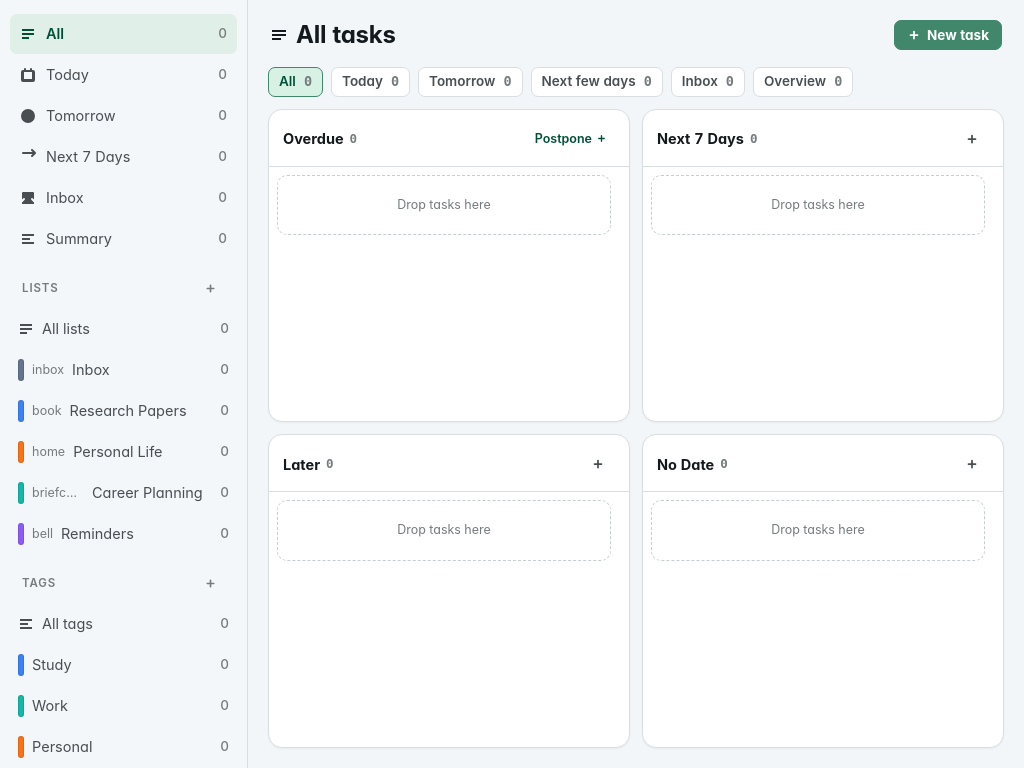
it: TasksModule — T-EMPTY-1 board-level empty state EN (D-QT) › T-EMPTY-1a: clicking 'Next 7 Days' when next7 bucket is empty shows bucket-framed EN empty state
Click the text with class "grow" showing "Next 7 Days". click: (88,157)
box: [46,148,130,166]
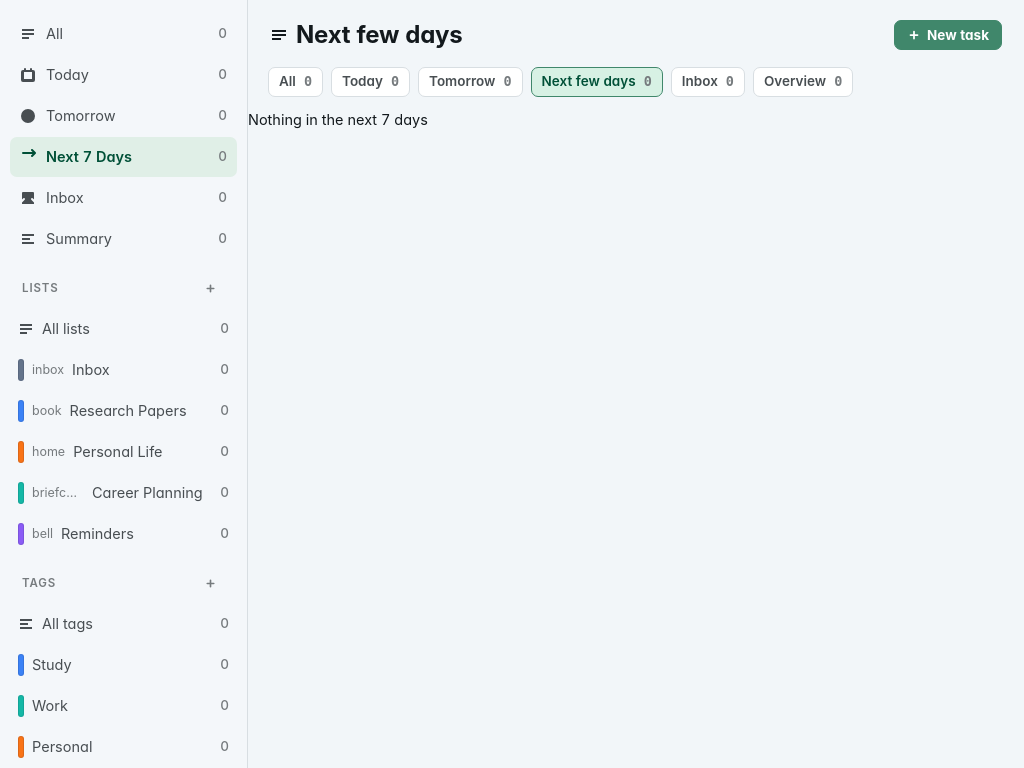
Expected: the message with class "tasks-board-empty" reads "Nothing in the next 7 days", [248,111,428,128]
